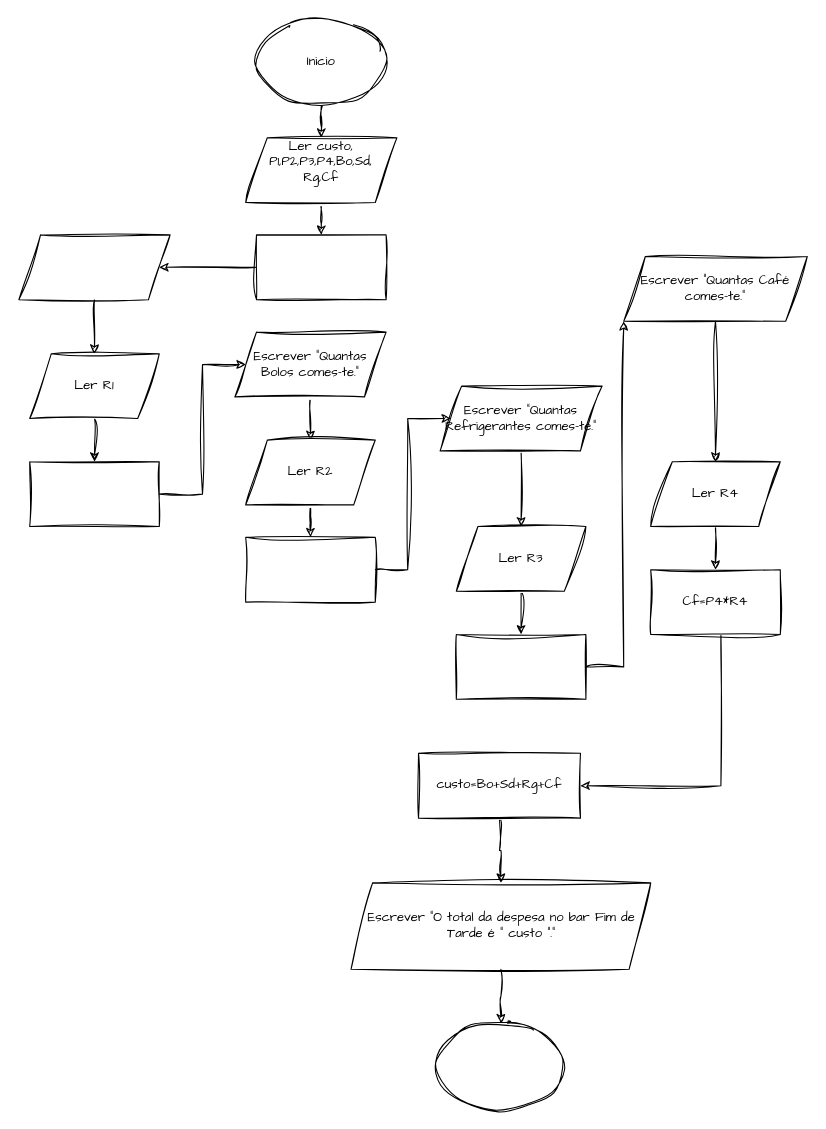
Image size: 826x1129. Some labels were removed from this diagram. Each missing label, with the centre of its shape:
Bo=P1*R1: [94,493]
Escrever "Quantas Sandes comes-te.": [94,267]
FIm: [500,1066]
P1 = 1€ P2 = 0,8€ P3 = 1,5€ P4 = 0,6€: [320,267]
Rg=P3*R3: [520,666]
Sd=P2*R2: [310,569]
